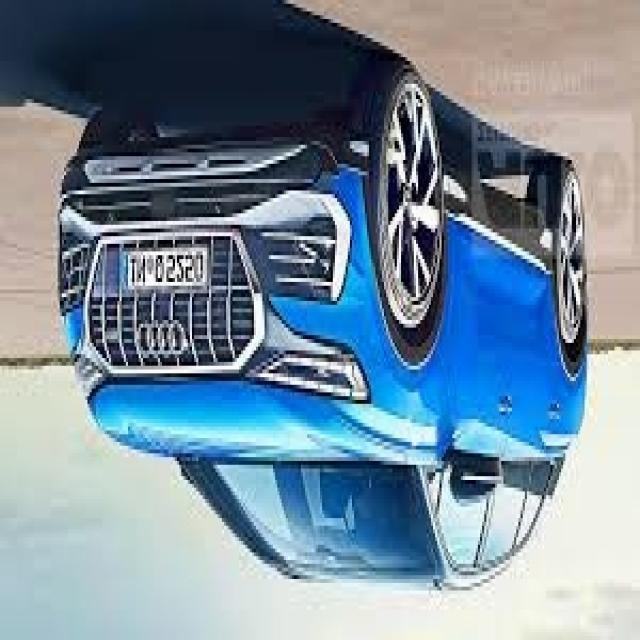blue: (59, 71, 584, 584)
